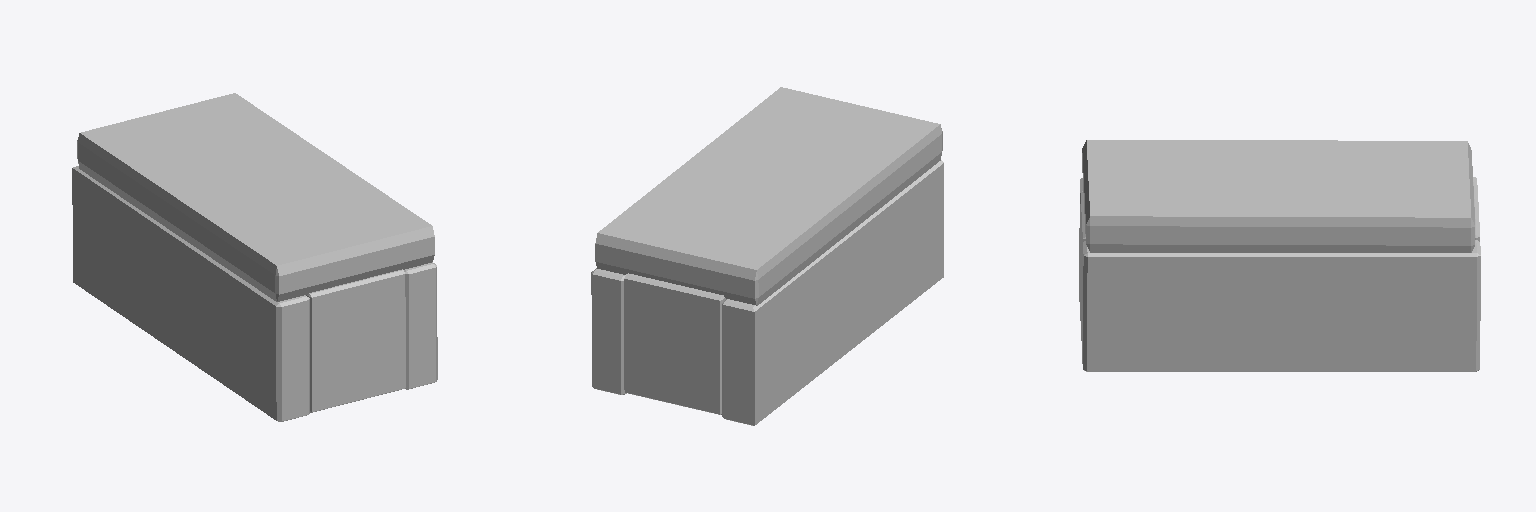
Rendered from Chest2.obj.
3 renders of one model, left to right at view 1: azimuth 30°, elevation 25°; view 2: azimuth 150°, elevation 25°; view 3: azimuth 270°, elevation 25°, orthographic.
Parts seen in each view (by area): view 1: Chest2; view 2: Chest2; view 3: Chest2.
Boxes of the visible parts, x1,y1,x2,y2 form: Chest2: [72, 93, 437, 421]; Chest2: [591, 87, 943, 425]; Chest2: [1079, 140, 1480, 371].
Bounding box in the file's own units: 3.3 × 2.95 × 6.74.